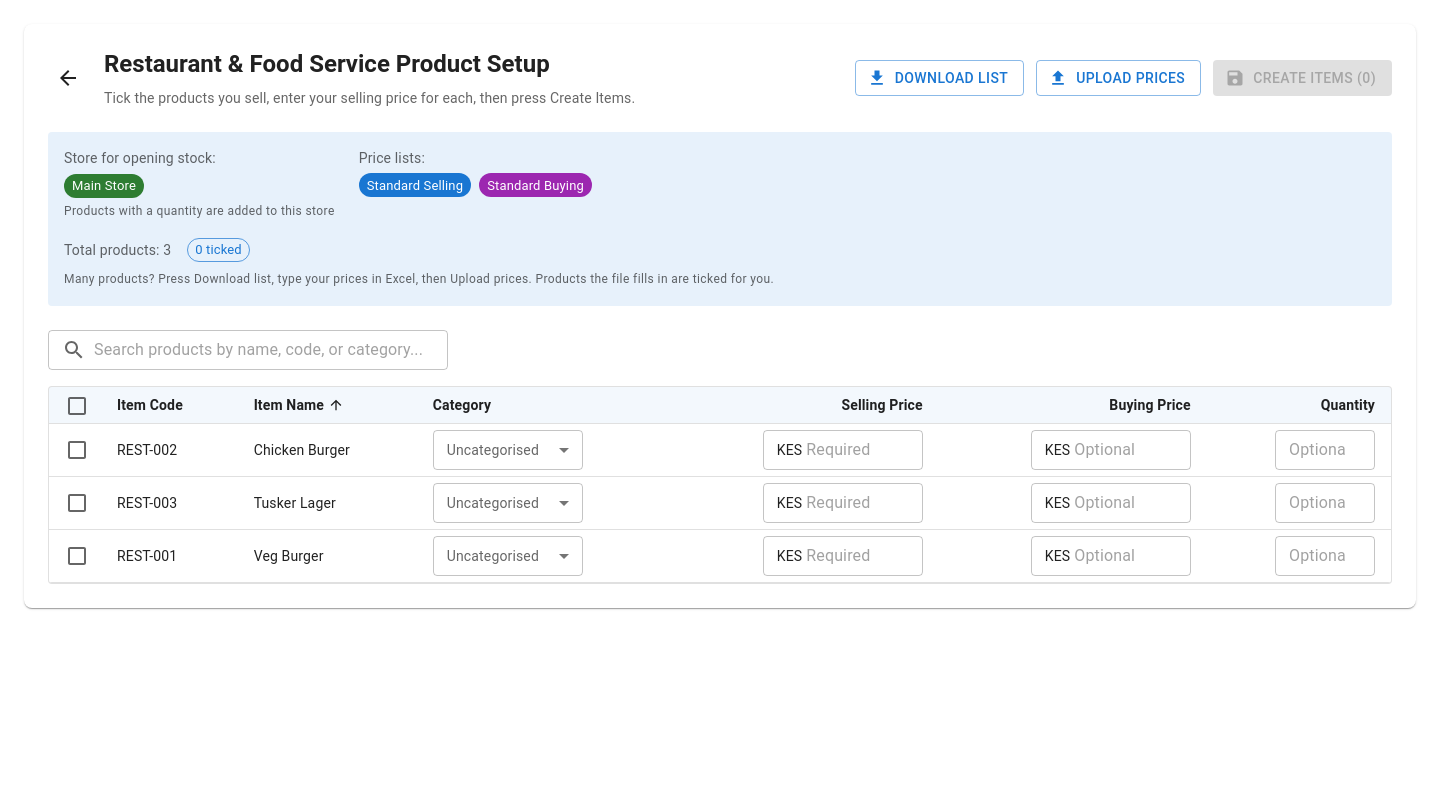
Starter products page › will not save a ticked product that has no price, and says which one
This screenshot has width=1440, height=810.
Expected: the text "Veg Burger" is shown, [238,529,417,582]
Click the checkbox named "Tick Veg Burger": (77, 556) [65,544,89,568]
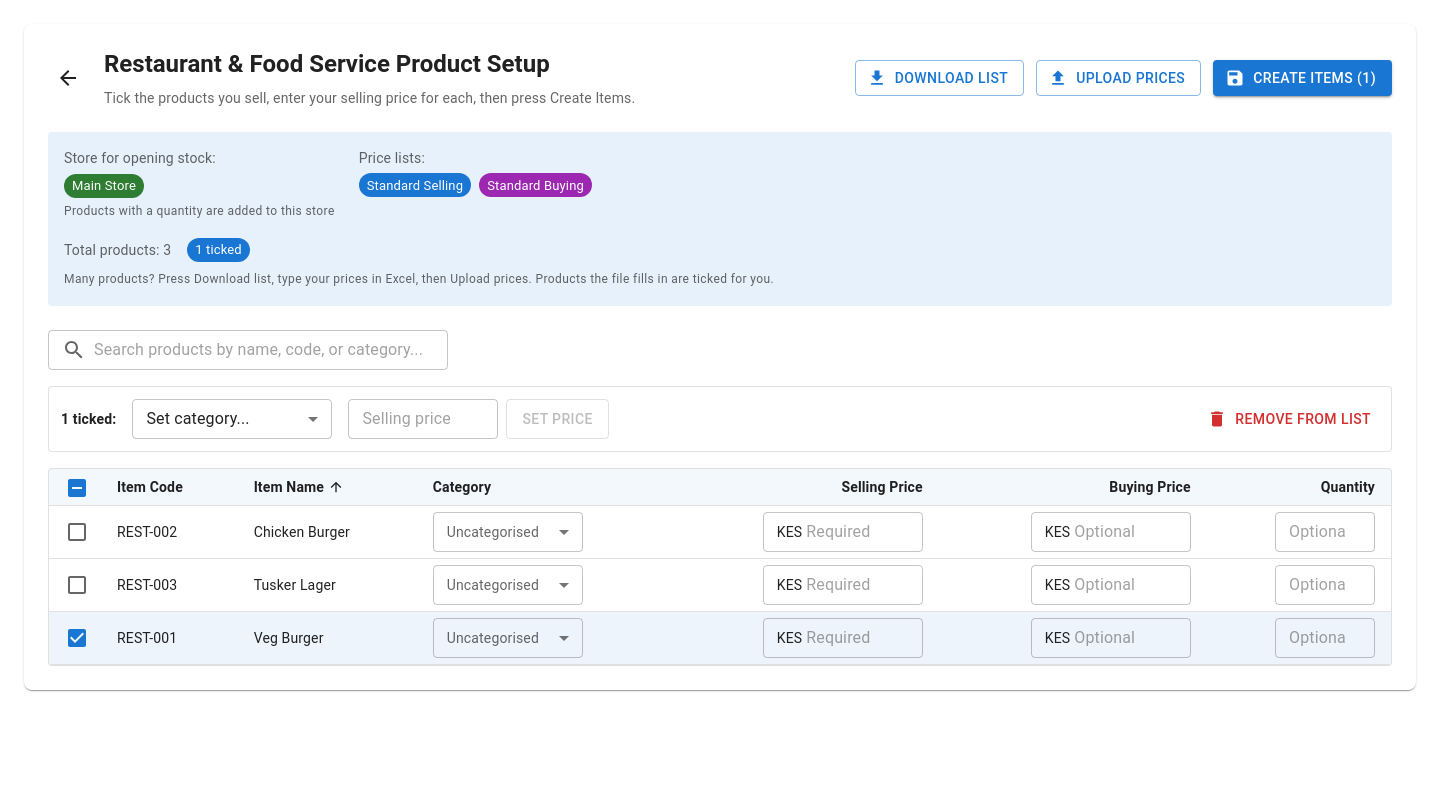
Click the button "Create Items (1)": (1303, 78) [1213,60,1392,96]
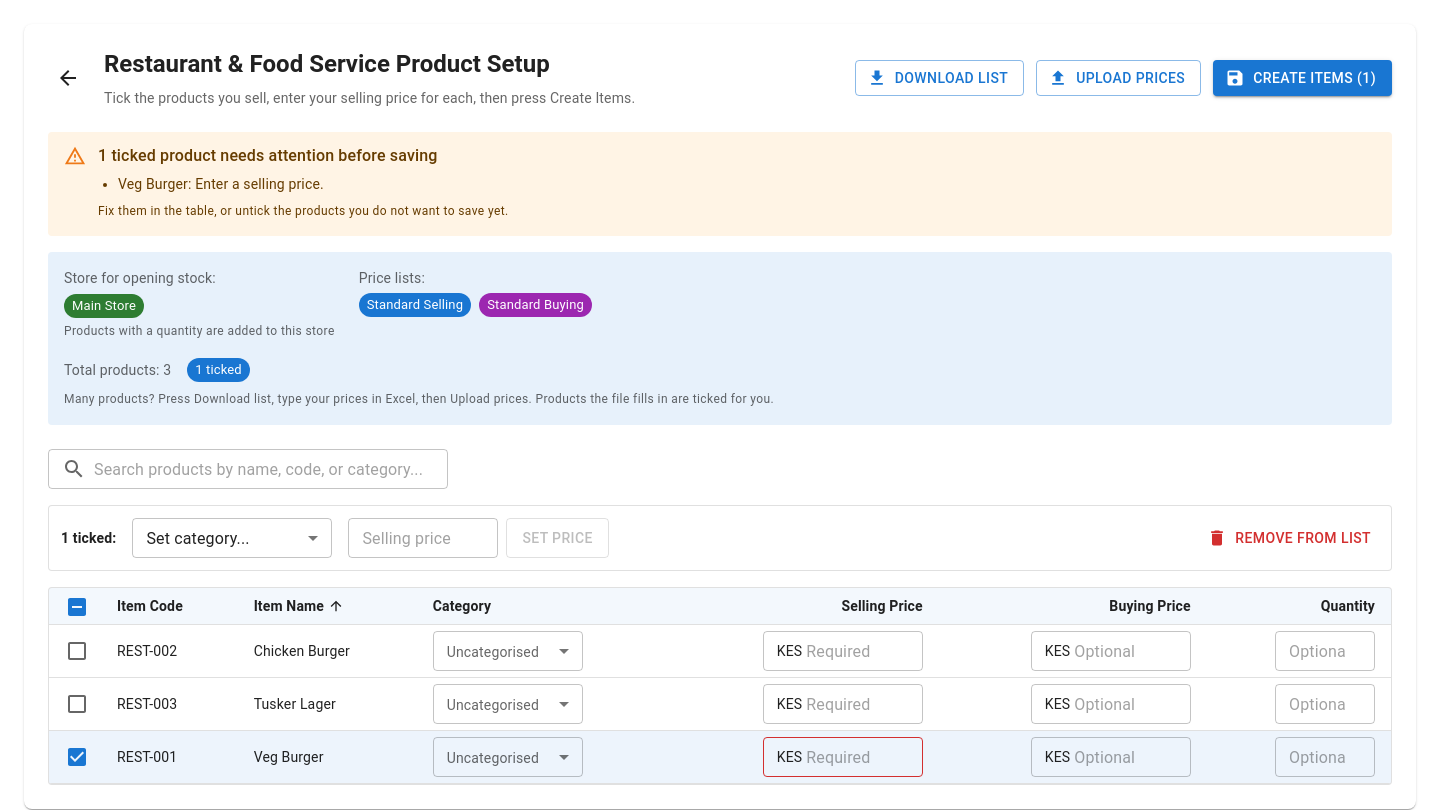
Expected: the text "1 ticked product needs attention before saving" is shown, [98,146,438,165]
Expected: the list item "Veg Burger: Enter a selling price." is shown, [118,176,324,192]
